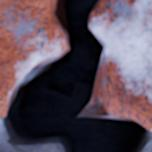broken_brick: (91, 0, 151, 132), (0, 0, 63, 118)
crack: (2, 0, 149, 151)
